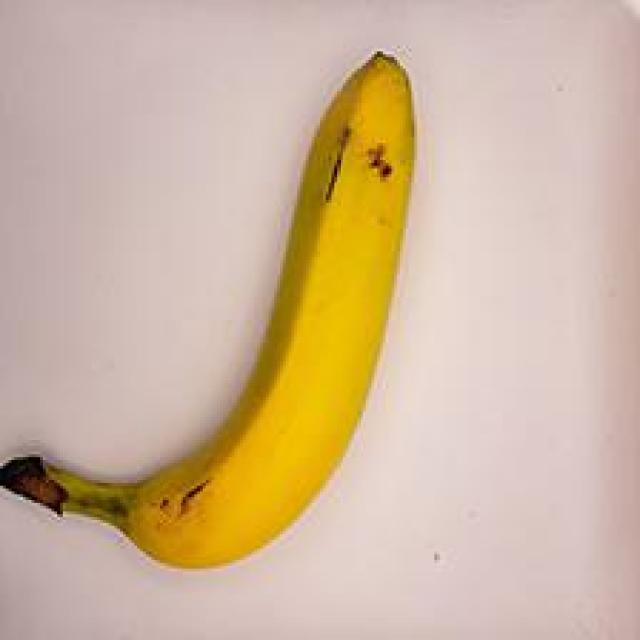ripe: (0, 38, 452, 580)
